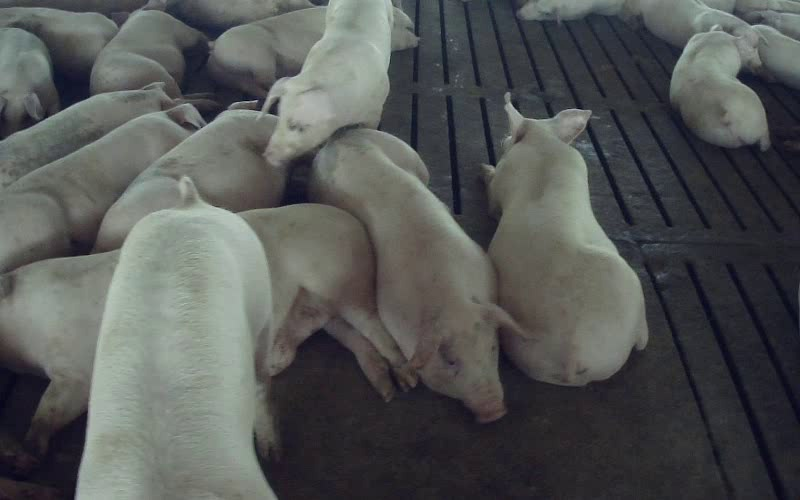pig: (77, 177, 276, 499), (310, 128, 513, 421), (483, 94, 647, 385), (0, 104, 205, 272), (95, 101, 285, 250), (0, 82, 174, 188), (670, 30, 769, 149), (90, 0, 207, 97), (207, 7, 325, 96), (640, 0, 760, 70)
